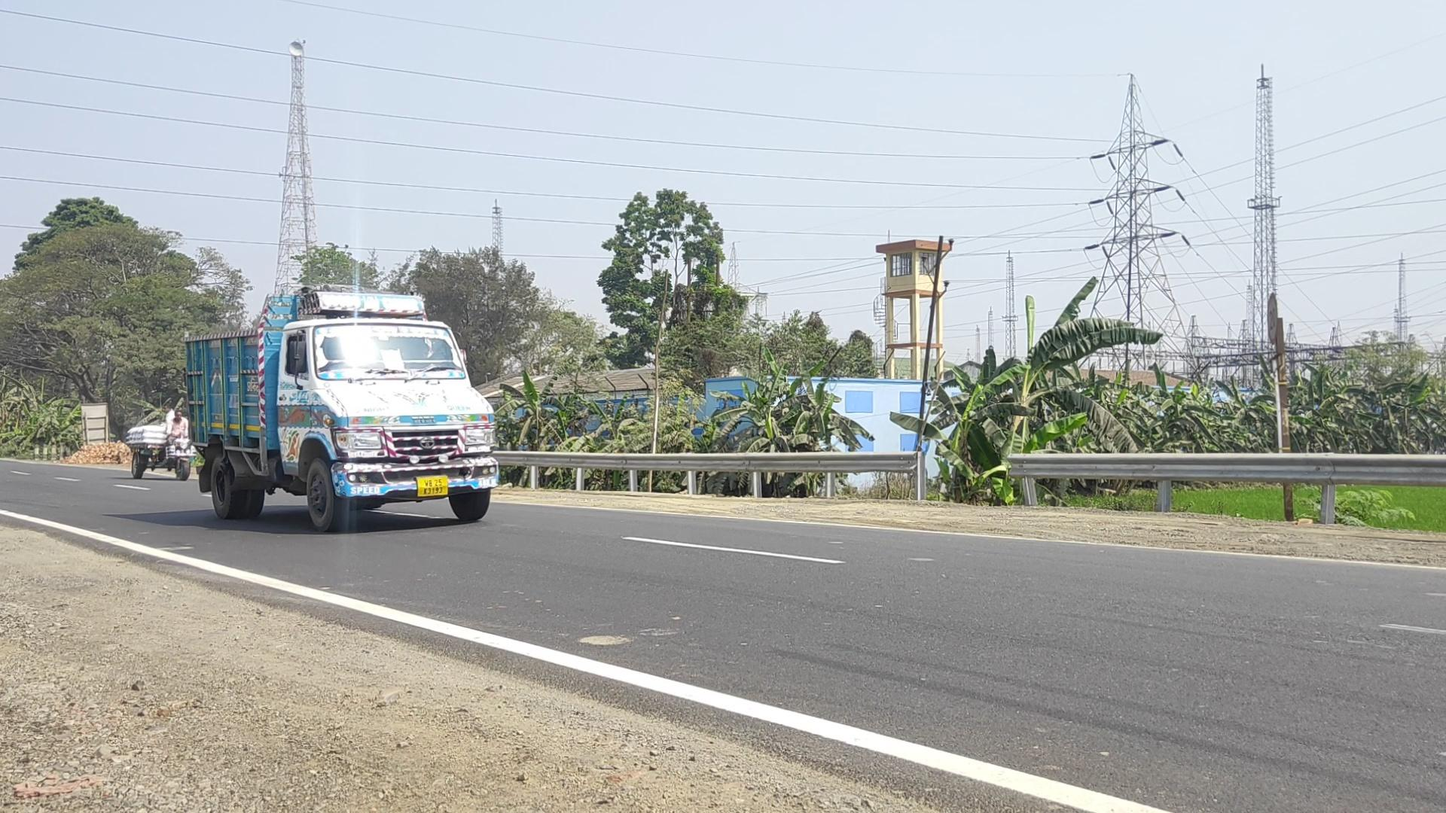truck: (185, 285, 499, 533)
